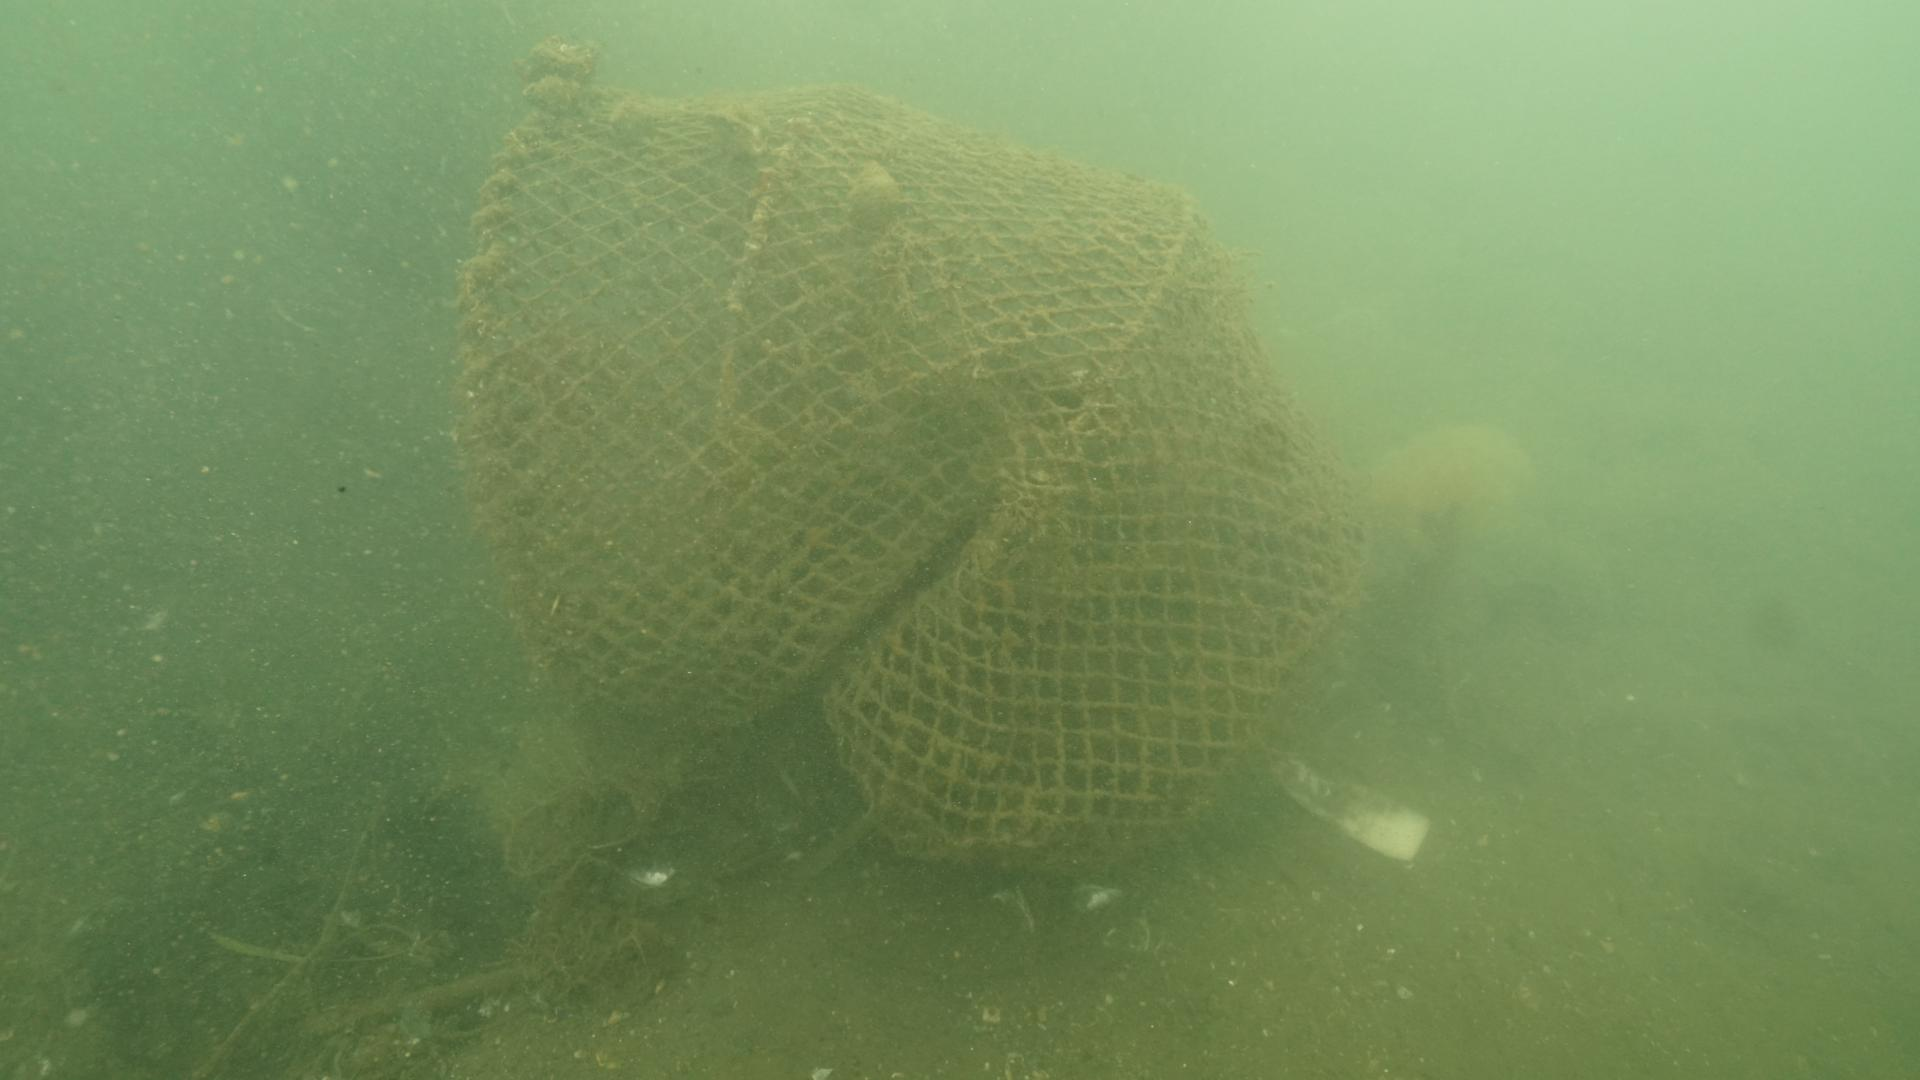spring fish trap: (444, 47, 1382, 876)
